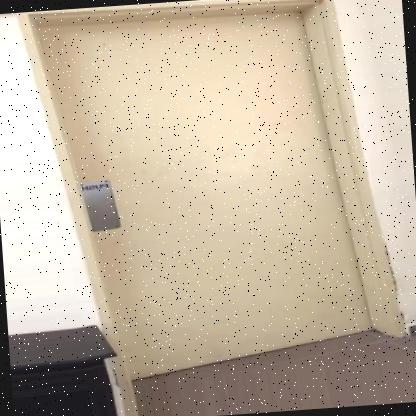door: (18, 0, 415, 388)
